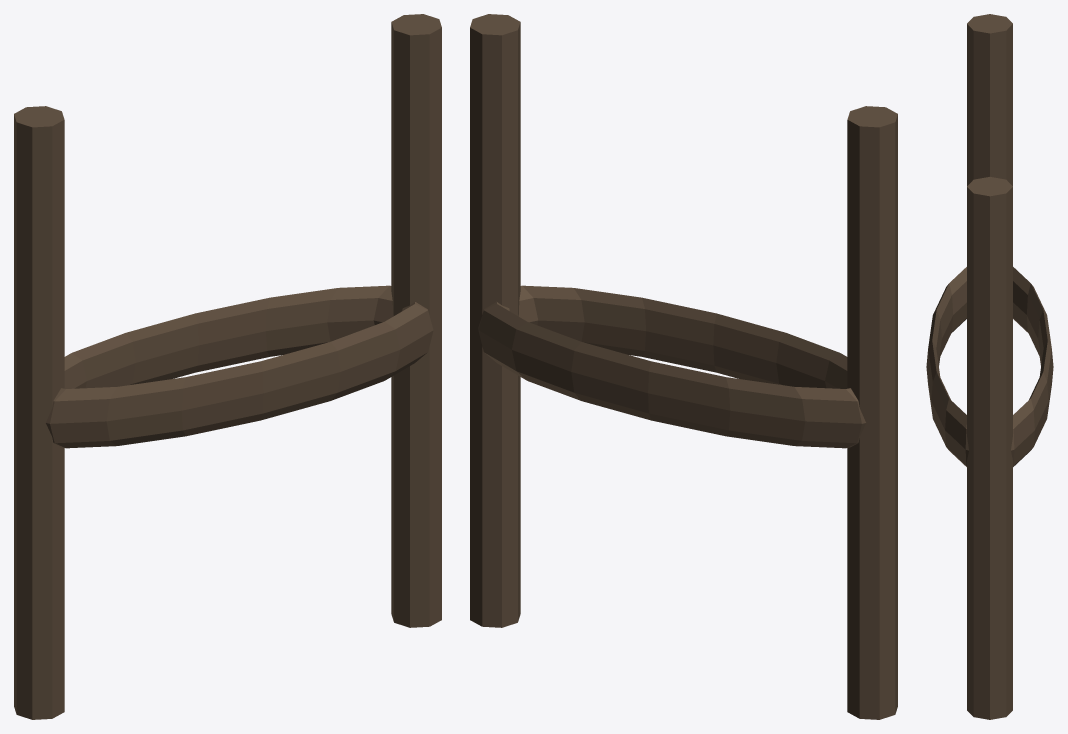
File: env_romantic_arch.glb
3 renders of one model, left to right at view 1: azimuth 30°, elevation 25°; view 2: azimuth 150°, elevation 25°; view 3: azimuth 270°, elevation 25°, orthographic. The views are drawn at different scales.
Parts seen in each view (by area): view 1: Torus.005, Cylinder, Cylinder.001; view 2: Torus.005, Cylinder, Cylinder.001; view 3: Cylinder.001, Torus.005, Cylinder.
Part boxes in pixels (bbox=[...]): Torus.005: bbox=[46, 285, 433, 448]; Cylinder: bbox=[14, 106, 64, 719]; Cylinder.001: bbox=[391, 14, 441, 627]; Torus.005: bbox=[478, 285, 865, 448]; Cylinder: bbox=[847, 106, 897, 719]; Cylinder.001: bbox=[470, 14, 520, 627]; Cylinder.001: bbox=[967, 177, 1012, 719]; Torus.005: bbox=[926, 267, 1053, 466]; Cylinder: bbox=[967, 14, 1012, 185].
Size of the model in its own units: 2.24 by 3 by 0.66.
